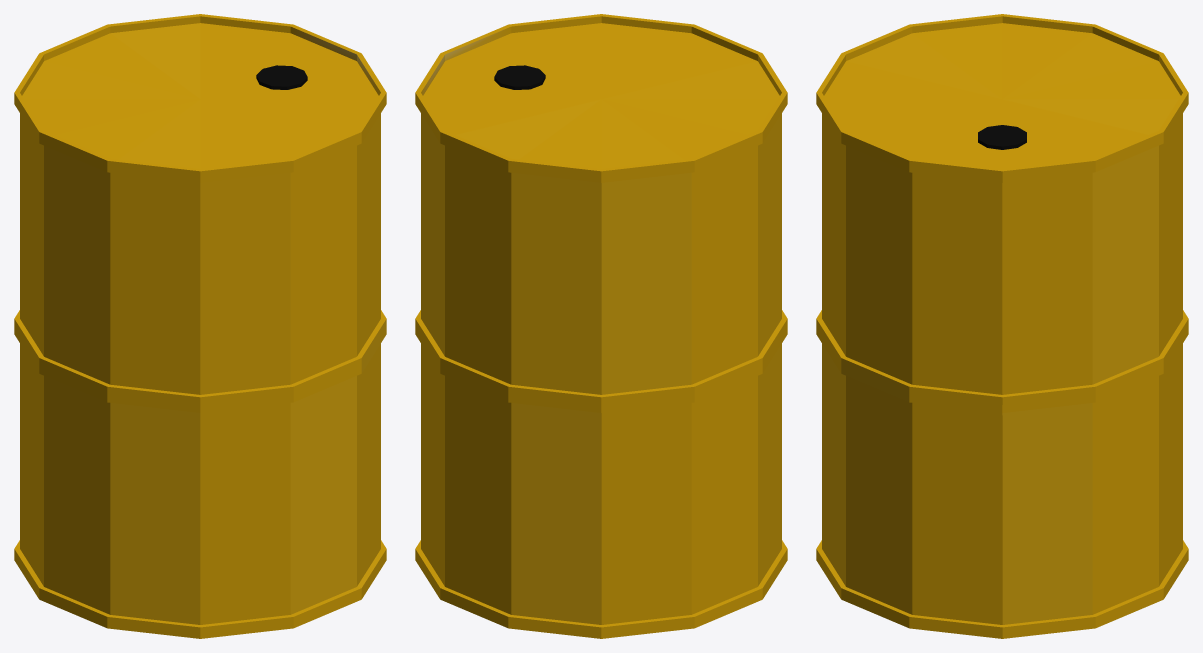
Rendered from SM_barrel.FBX.
3 views of the same model, side by side, from view 1: azimuth 30°, elevation 25°; view 2: azimuth 150°, elevation 25°; view 3: azimuth 270°, elevation 25° (orthographic).
Parts seen in each view (by area): view 1: Barrel; view 2: Barrel; view 3: Barrel.
Part boxes in pixels (x1,y1,x2,y2): Barrel: [14, 14, 386, 638]; Barrel: [415, 14, 787, 638]; Barrel: [816, 14, 1188, 638].
Size of the model in its own units: 72.15 by 100 by 72.15.
